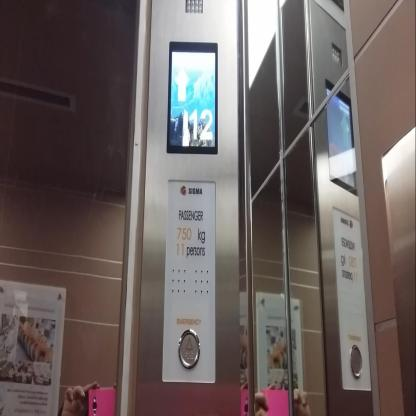alarm: (178, 328, 200, 369)
led: (166, 40, 218, 154)
